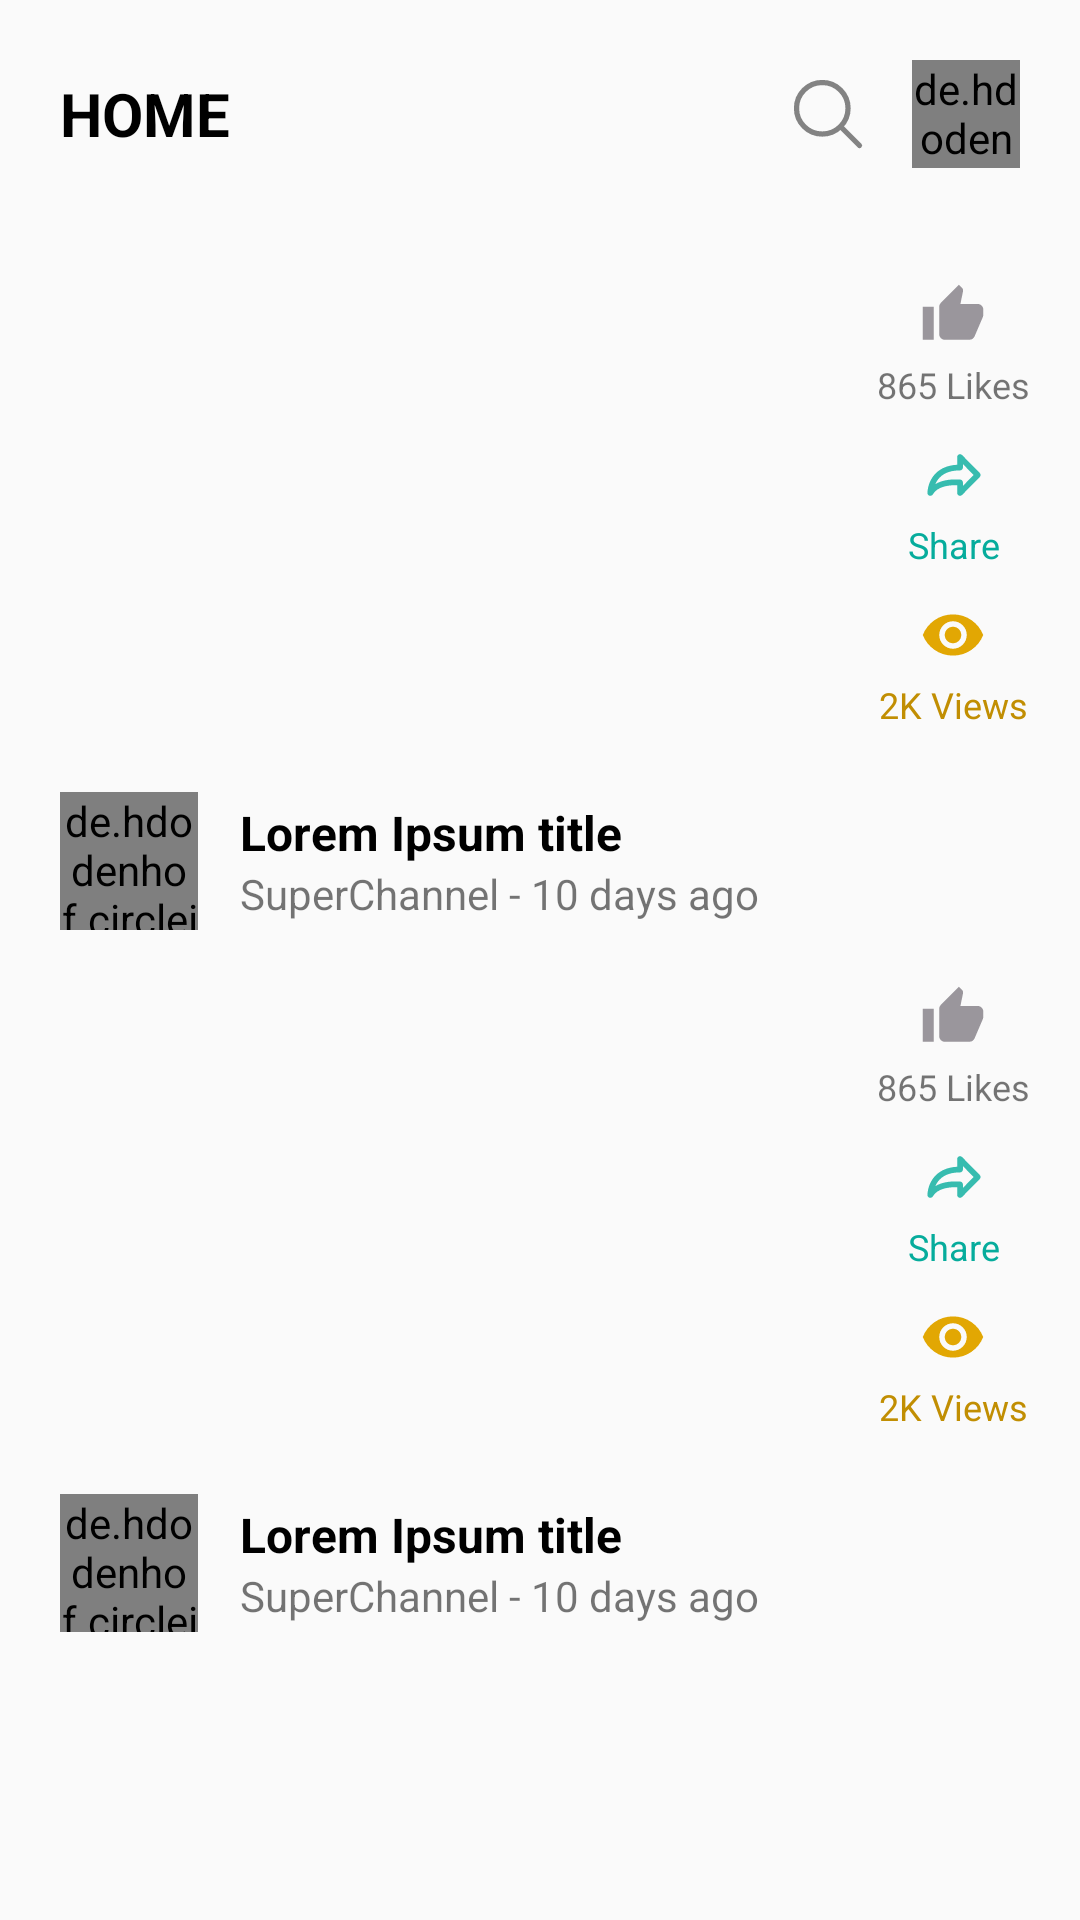

Where to tap for icons on this 1080w x 1920h app screen, as (x=x, y=y):
eye: (x=953, y=635), (x=953, y=1337)
search: (x=828, y=114)
thumb up: (x=953, y=312), (x=953, y=1014)
